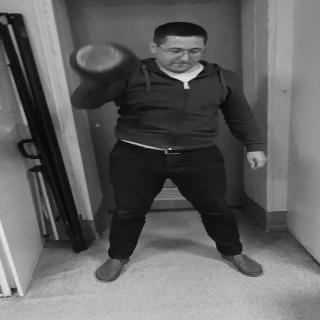kettlebell: (71, 43, 141, 83)
